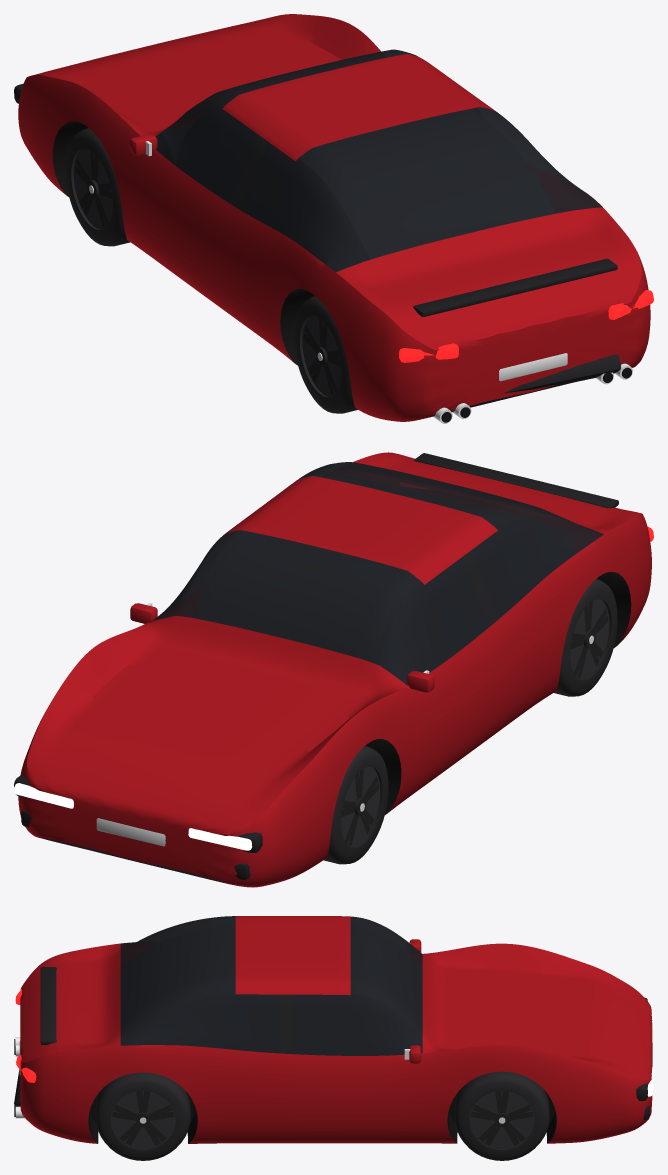
File: ford_mustang_gt.glb
3 renders of one model, top to bottom at view 1: azimuth 30°, elevation 25°; view 2: azimuth 150°, elevation 25°; view 3: azimuth 270°, elevation 25°, orthographic. The views are drawn at different scales.
Visible parts, largest first — view 1: Body, Wheel_FL, Wheel_RL; view 2: Body, Wheel_FL, Wheel_RL; view 3: Body, Wheel_FR, Wheel_RR.
Part boxes in pixels (box(x1,y1,x2,y2)): Body: box(14, 14, 653, 423); Wheel_FL: box(65, 128, 129, 246); Wheel_RL: box(294, 296, 357, 413); Body: box(14, 452, 653, 887); Wheel_FL: box(323, 746, 388, 864); Wheel_RL: box(554, 579, 617, 696); Body: box(14, 916, 653, 1143); Wheel_FR: box(454, 1071, 549, 1160); Wheel_RR: box(95, 1072, 190, 1160).
Bounding box in the file's own units: 2.06 × 1.38 × 4.85.
